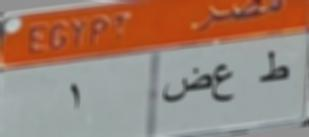1: (67, 77, 85, 114)
Taa: (255, 48, 292, 88)
ain: (212, 60, 236, 107)
daad: (162, 68, 210, 108)
